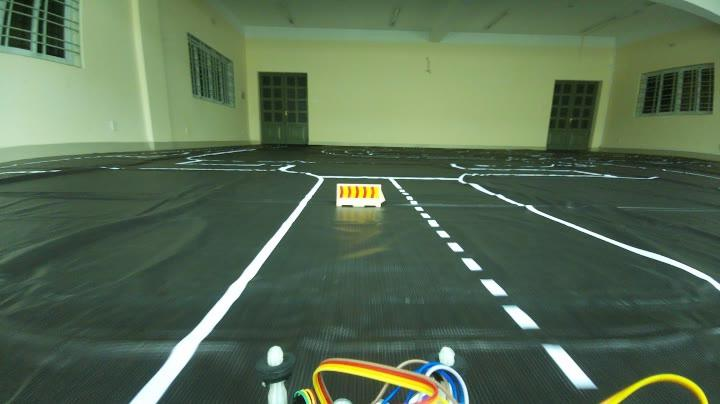roadblock: (331, 179, 388, 216)
